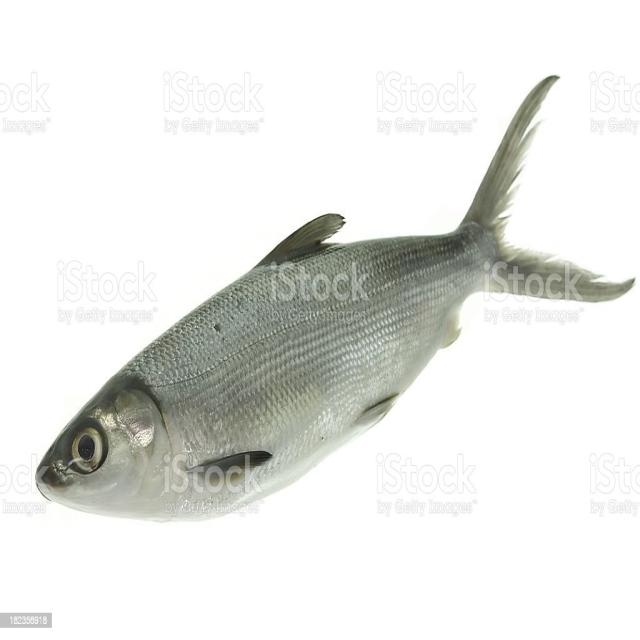Bangus: (29, 60, 639, 523)
